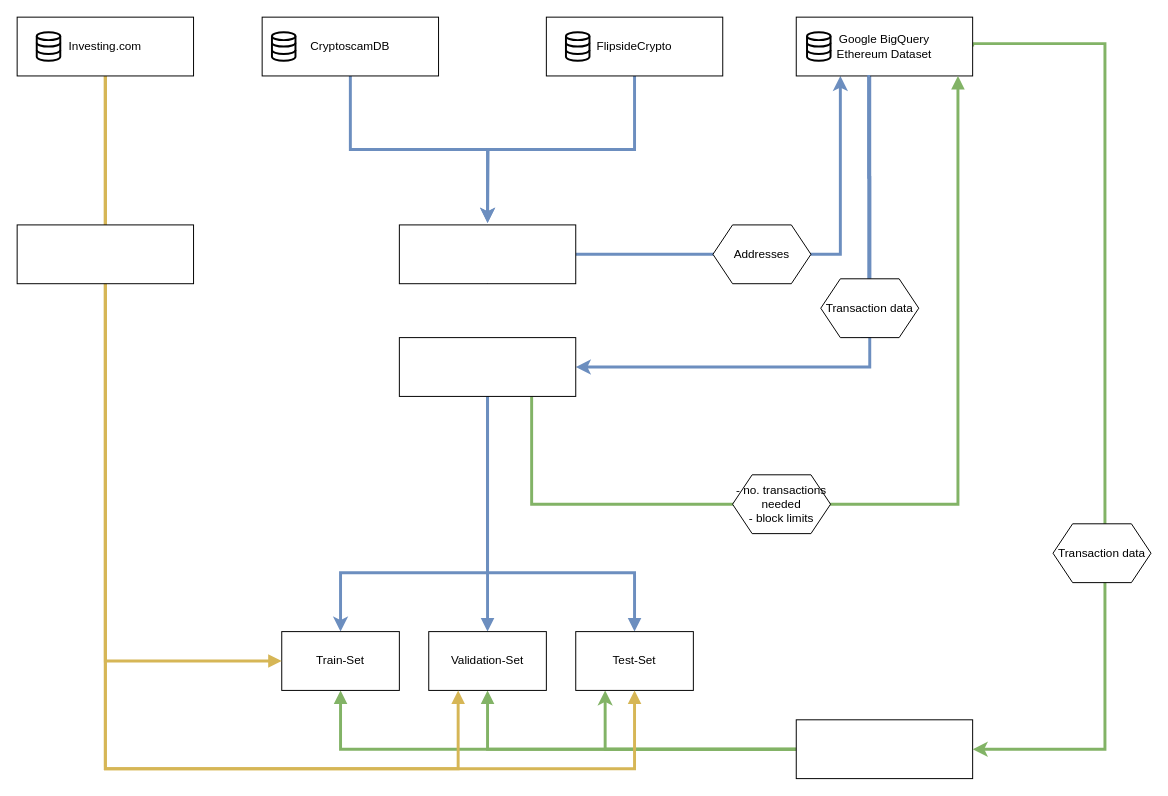
This 1168x796 diagram has some shape labels left out. The shapes that lost their labels are listed below. From the top down, each one's centre as x and y in pixels, then its label:
point (105, 254): Historical price Ethereum
point (487, 254): Illicit accounts dataset
point (487, 366): Illicit Transactions Dataset
point (884, 749): Random non-illicit transactions
